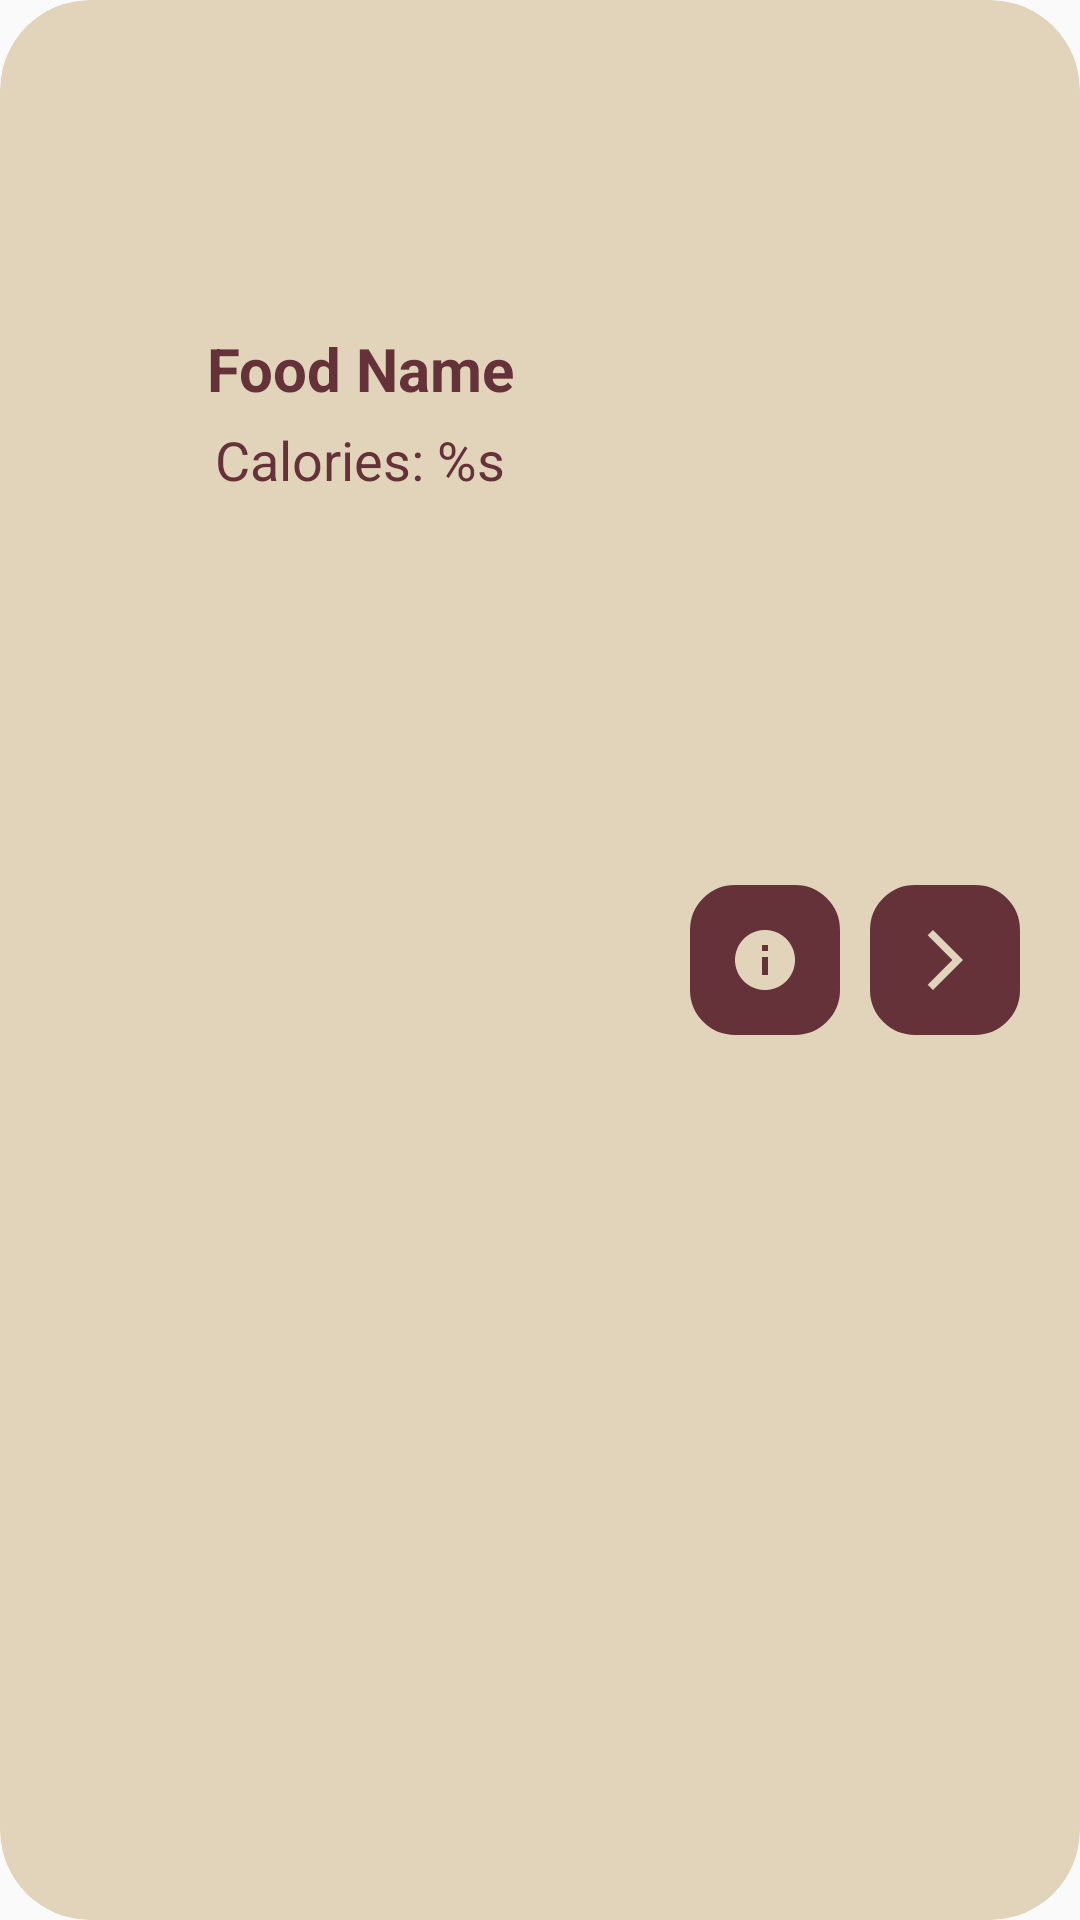

Icon bounding boxes for this 1080px x 1920px phone screenshot, format (x1, y1, x2, y2):
forward: (870, 885, 1020, 1035)
info: (690, 885, 840, 1035)
